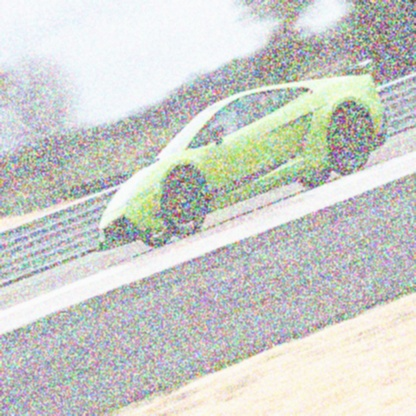Vehicle: (96, 59, 390, 253)
